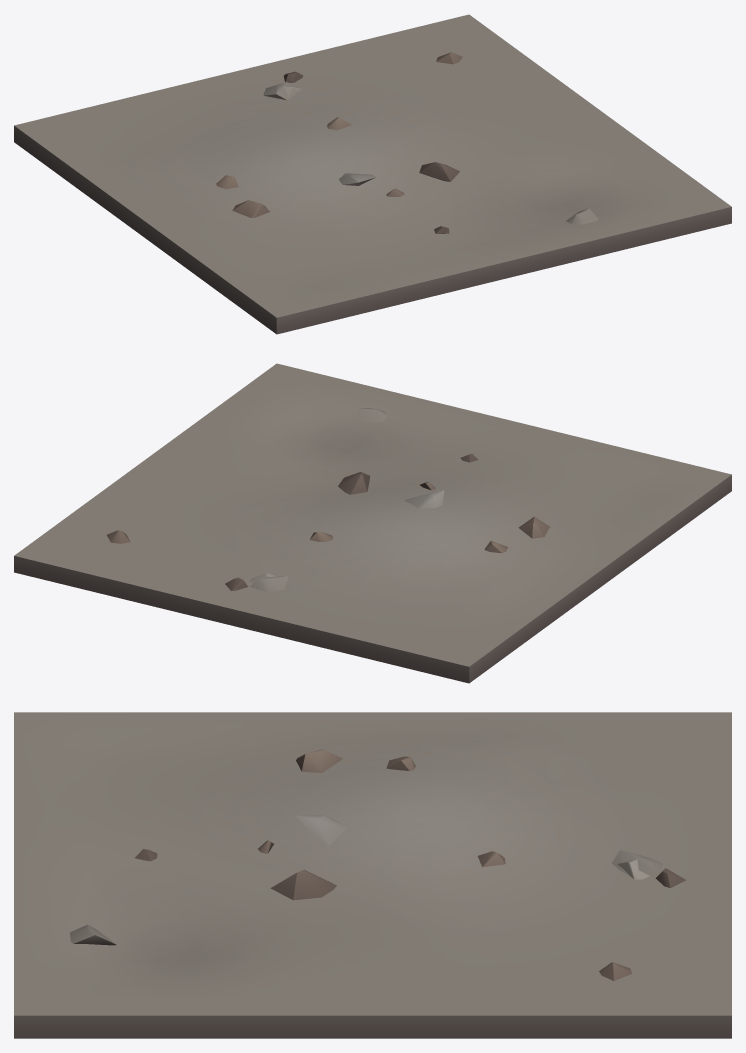
File: floor_cave_large_B.glb
3 renders of one model, top to bottom at view 1: azimuth 30°, elevation 25°; view 2: azimuth 150°, elevation 25°; view 3: azimuth 270°, elevation 25°, orthographic. The views are drawn at different scales.
Visible parts, largest first — view 1: Item; view 2: Item; view 3: Item.
Part boxes in pixels (x1=…): Item: x1=14, y1=14, x2=731, y2=334; Item: x1=14, y1=363, x2=731, y2=683; Item: x1=14, y1=712, x2=731, y2=1038.
Bounding box in the file's own units: 4 × 0.2658 × 4.
1 material, 1 textured.
